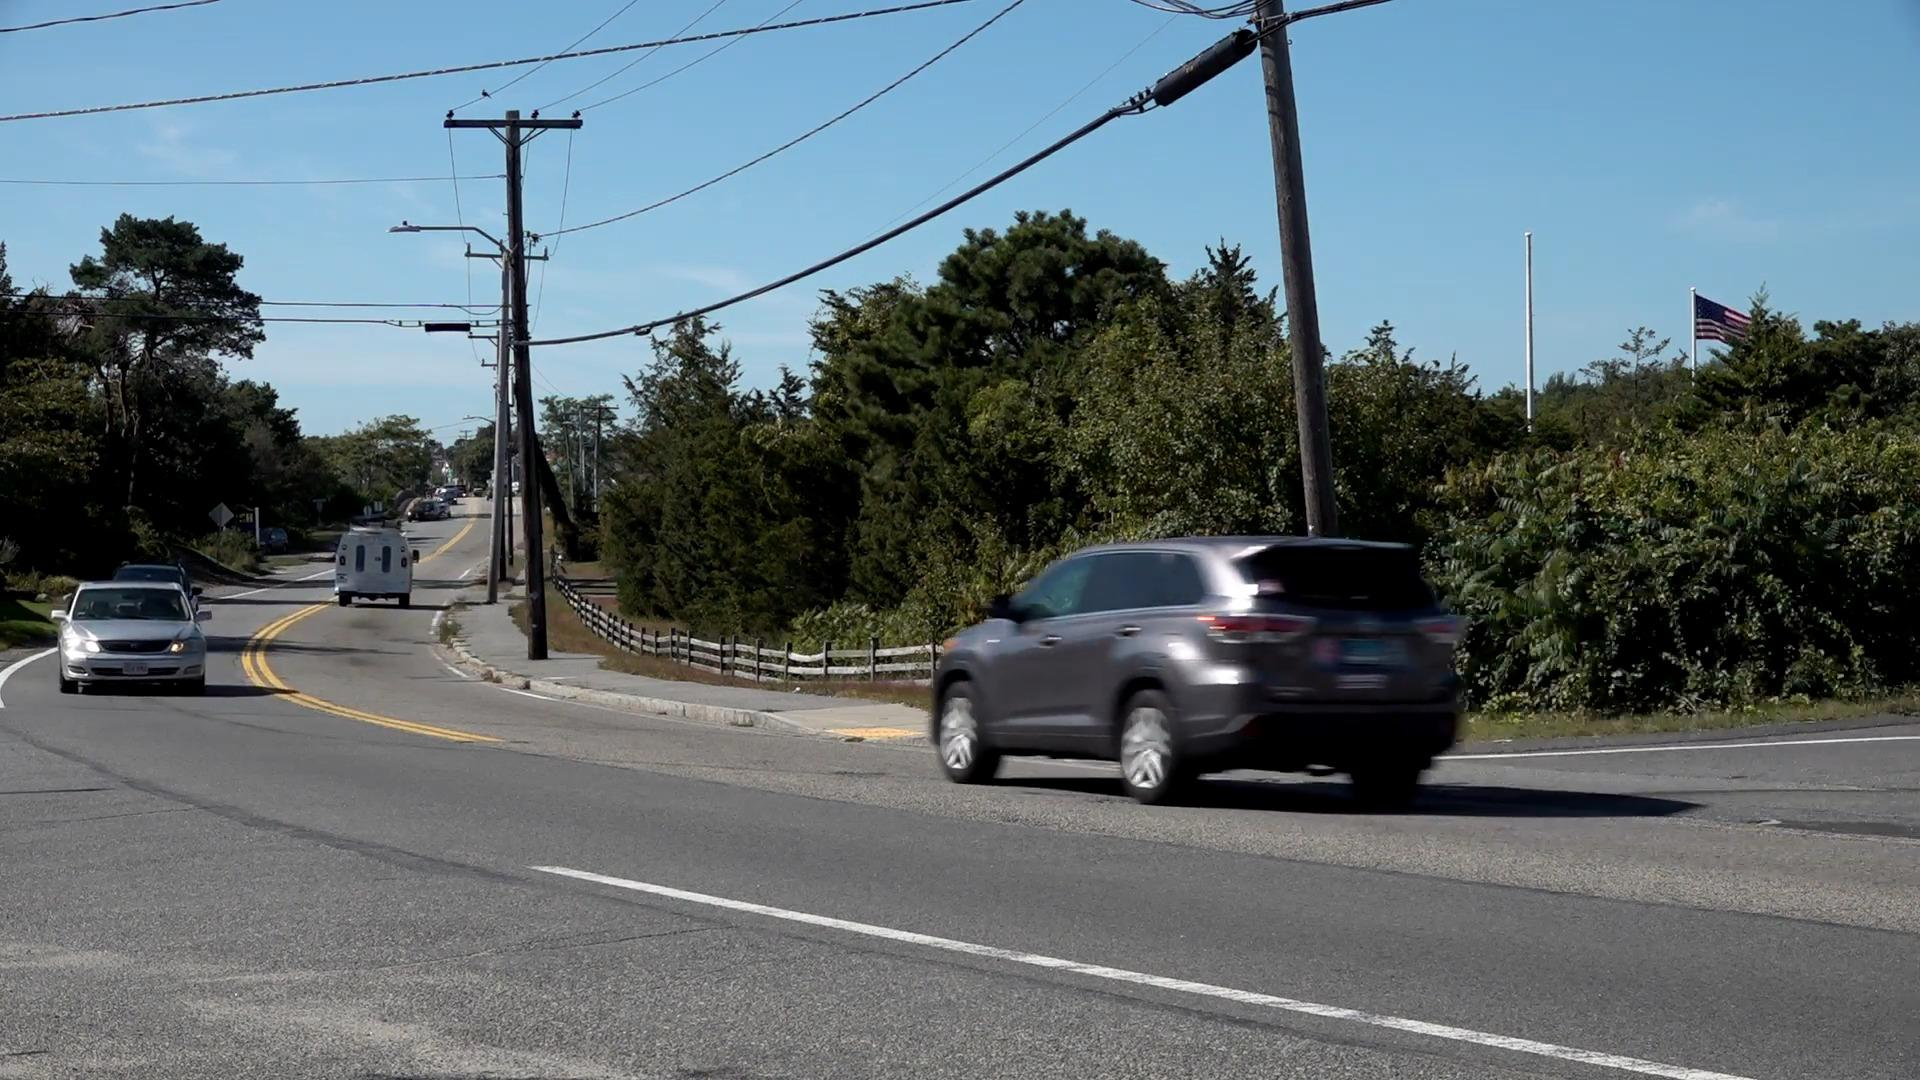pickup: (327, 525, 419, 611)
sedans: (55, 582, 208, 691)
suv: (931, 538, 1468, 812)
